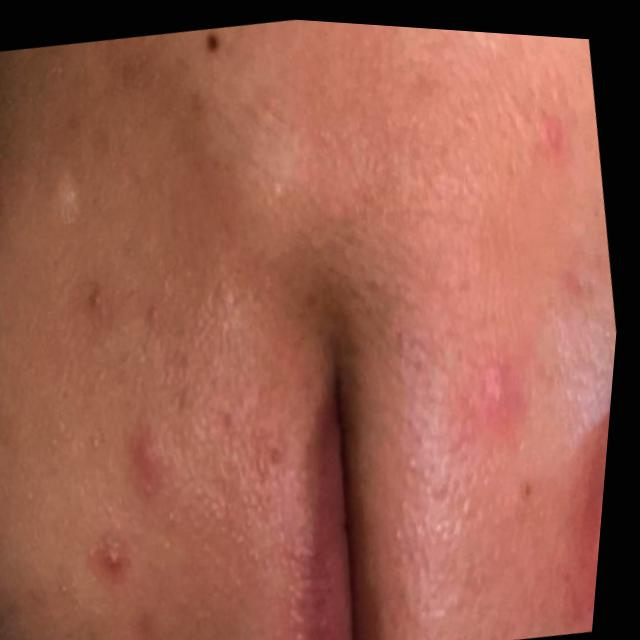papule: (456, 345, 531, 438), (131, 419, 191, 488)
pustule: (95, 532, 147, 585)
